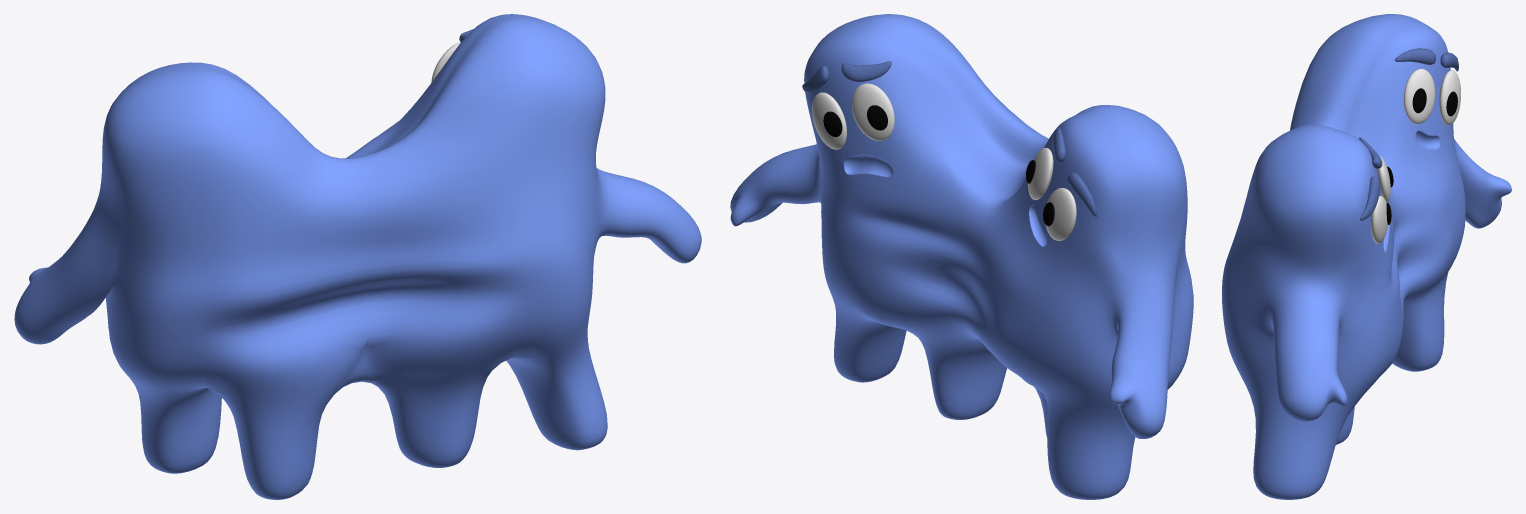
The model's file is chubby_gummies_dark.glb.
3 renders of one model, left to right at view 1: azimuth 30°, elevation 25°; view 2: azimuth 150°, elevation 25°; view 3: azimuth 270°, elevation 25°, orthographic. The views are drawn at different scales.
Parts seen in each view (by area): view 1: chubbie_gummies_dark; view 2: chubbie_gummies_dark; view 3: chubbie_gummies_dark.
Boxes of the visible parts, x1,y1,x2,y2 form: chubbie_gummies_dark: [14, 14, 701, 499]; chubbie_gummies_dark: [730, 14, 1193, 499]; chubbie_gummies_dark: [1222, 14, 1511, 499].
Bounding box in the file's own units: 1.83 × 1.27 × 0.9518.
